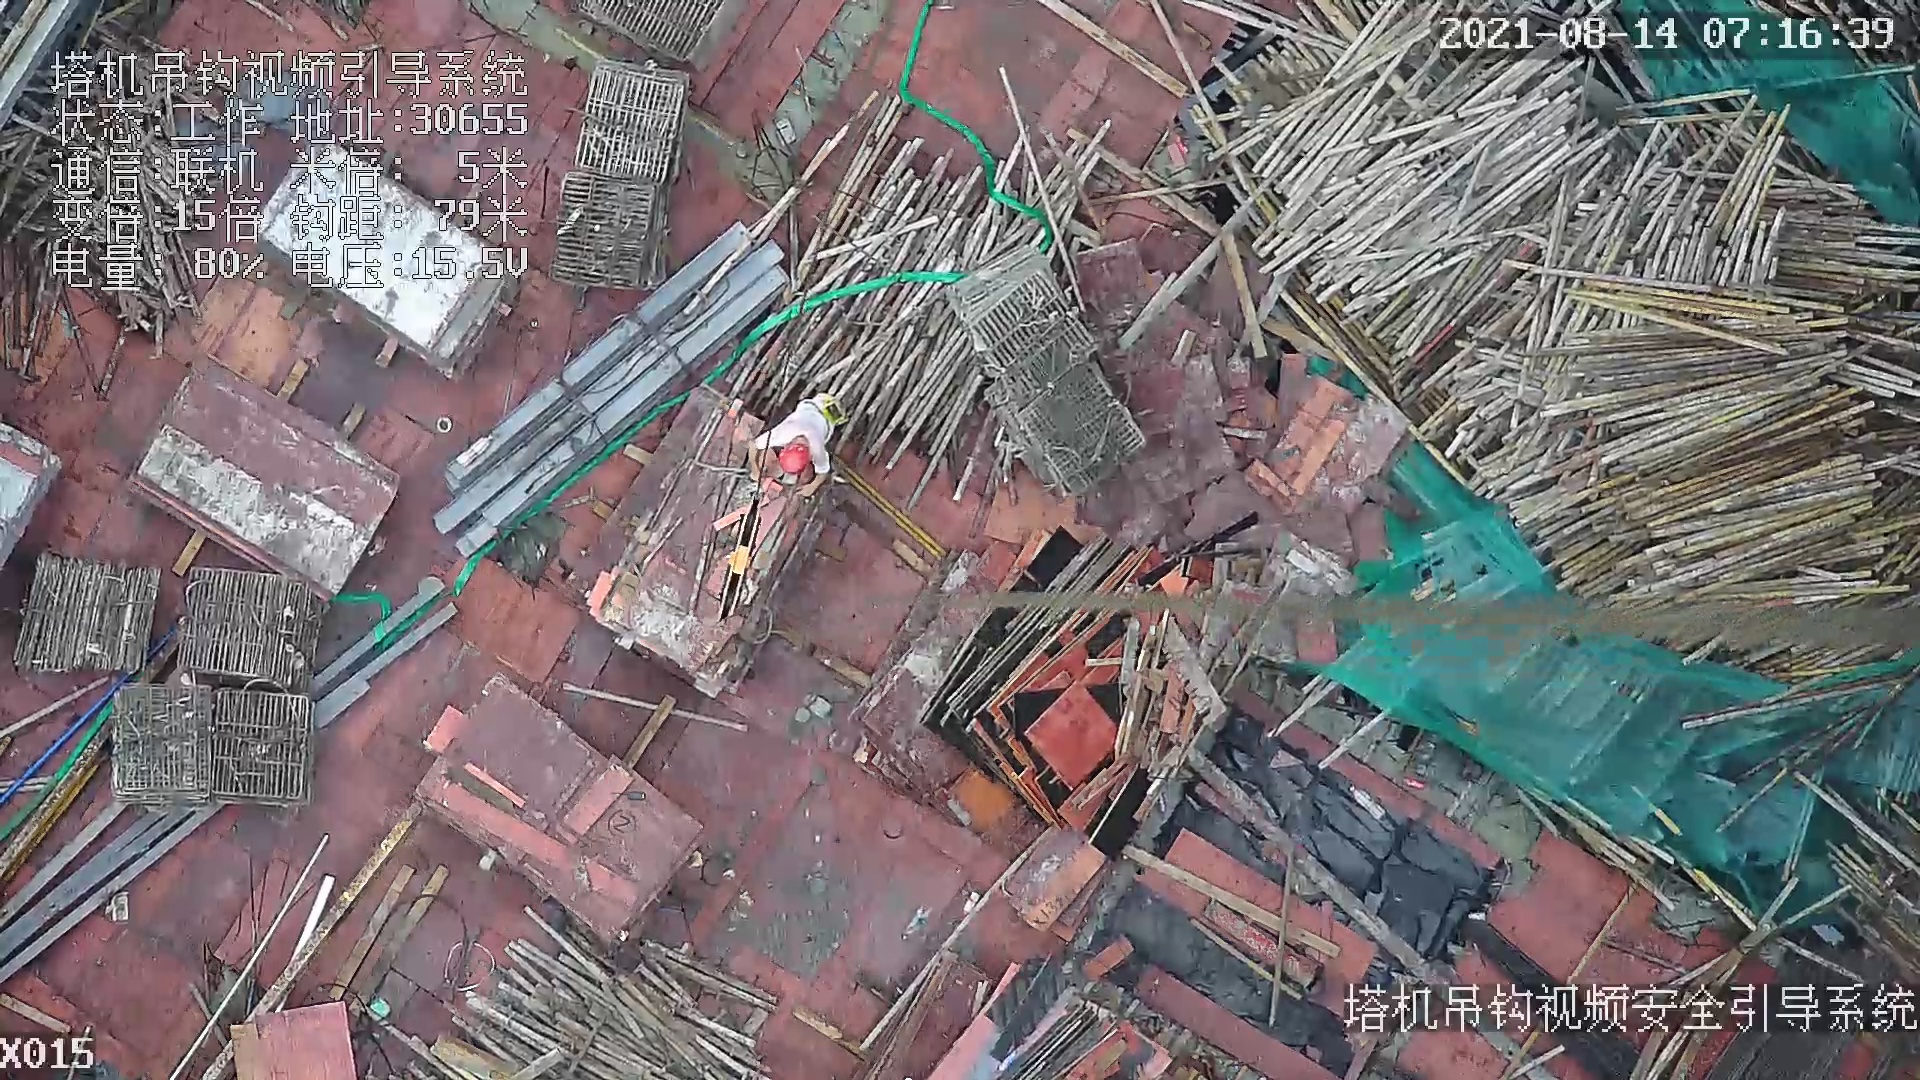helmet: (773, 439, 819, 476)
hook: (719, 491, 755, 619)
person: (737, 381, 836, 487)
